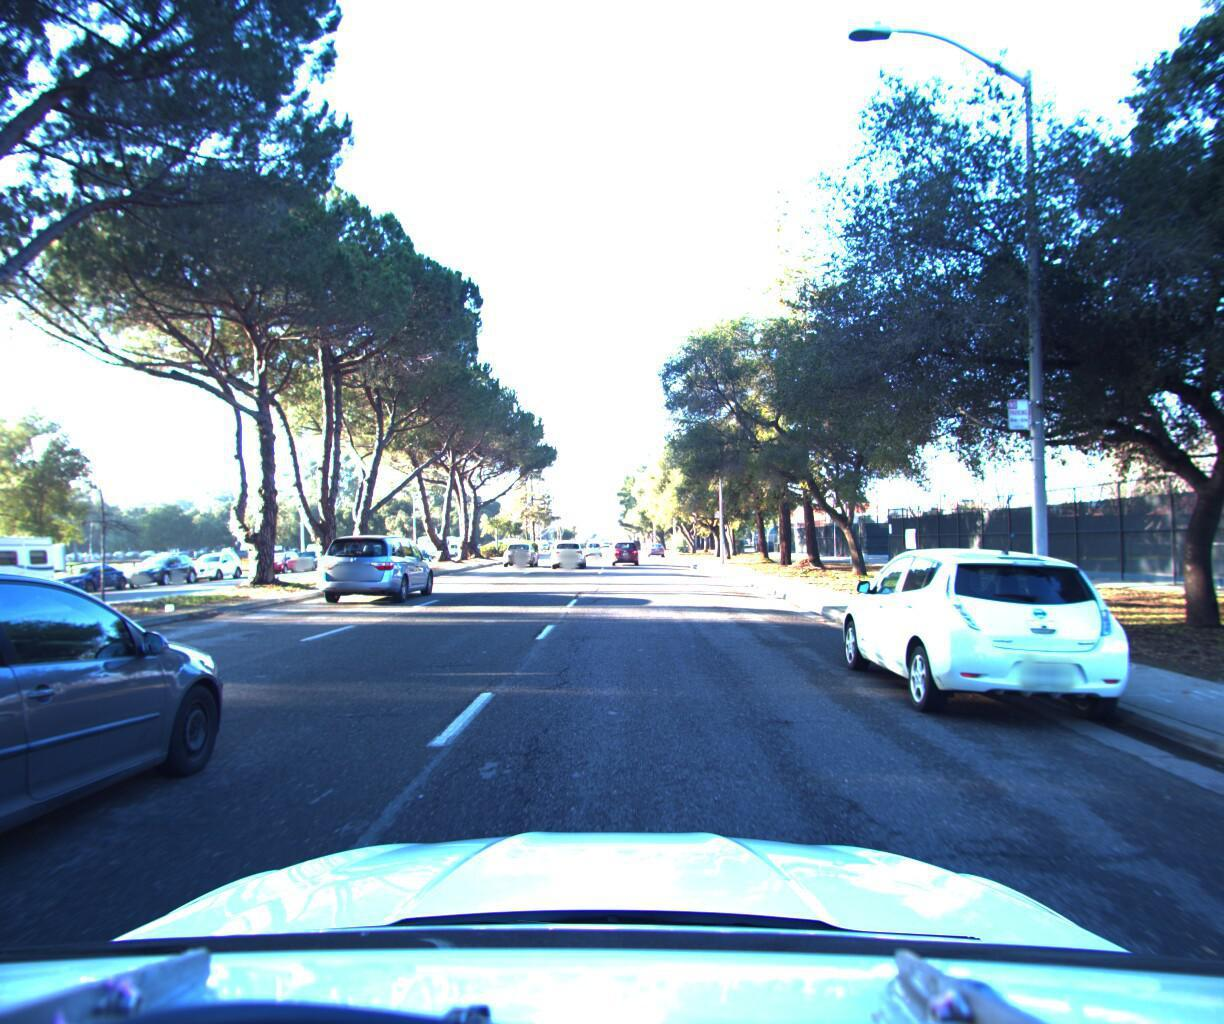car: (817, 536, 1172, 726), (314, 531, 437, 605), (121, 548, 200, 587), (47, 560, 134, 595), (182, 548, 244, 580), (549, 535, 586, 566), (255, 549, 304, 573), (501, 536, 538, 563), (611, 537, 640, 562), (586, 535, 604, 551), (647, 536, 665, 550)
